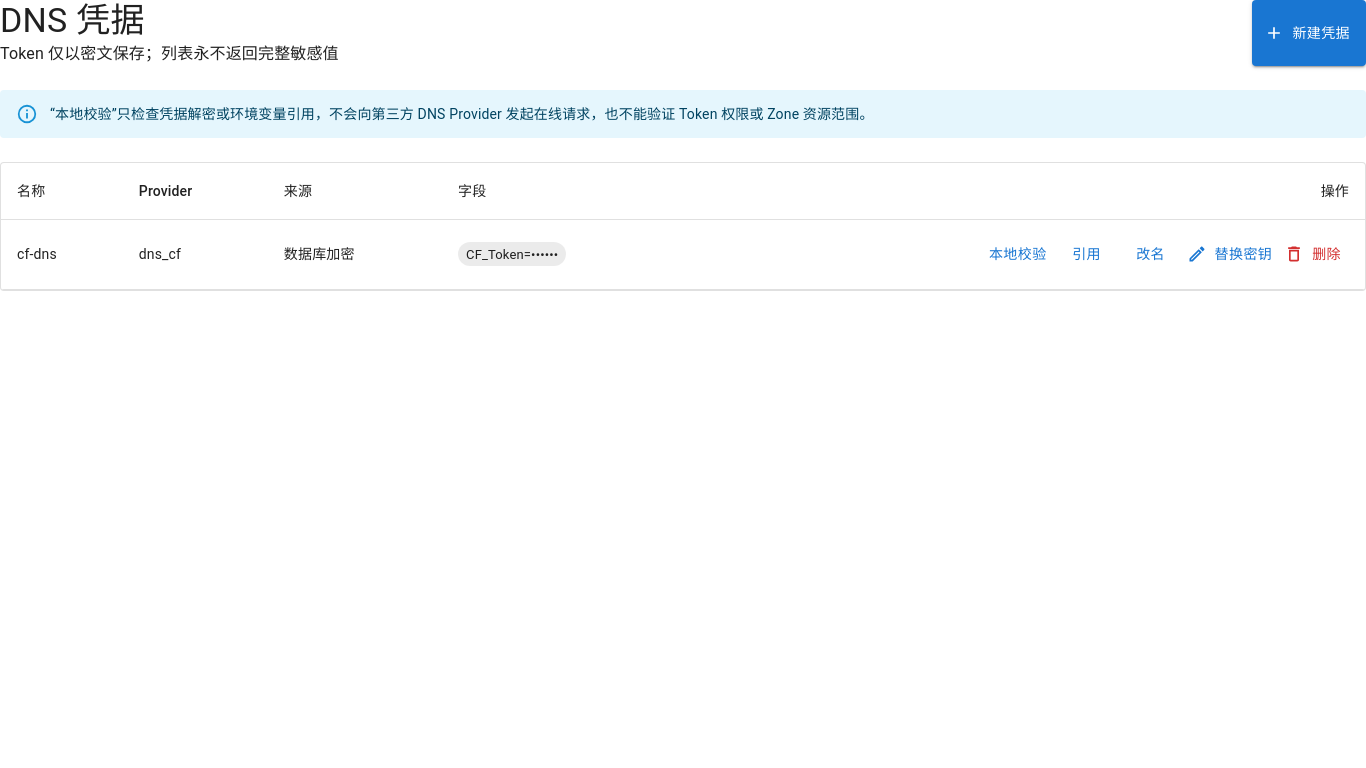
Test: Cloudflare 凭据明确本地校验边界和必要权限
Check: the button "本地校验" is shown, box [981,236,1055,272]
Check: the text "不能验证 Token 权限或 Zone 资源范围" is shown, box [50,106,874,122]
What coordinates should you click on to do the following:
click the button "新建凭据"
I would click on:
 (1309, 33)
Its box is [1252,0,1365,66].
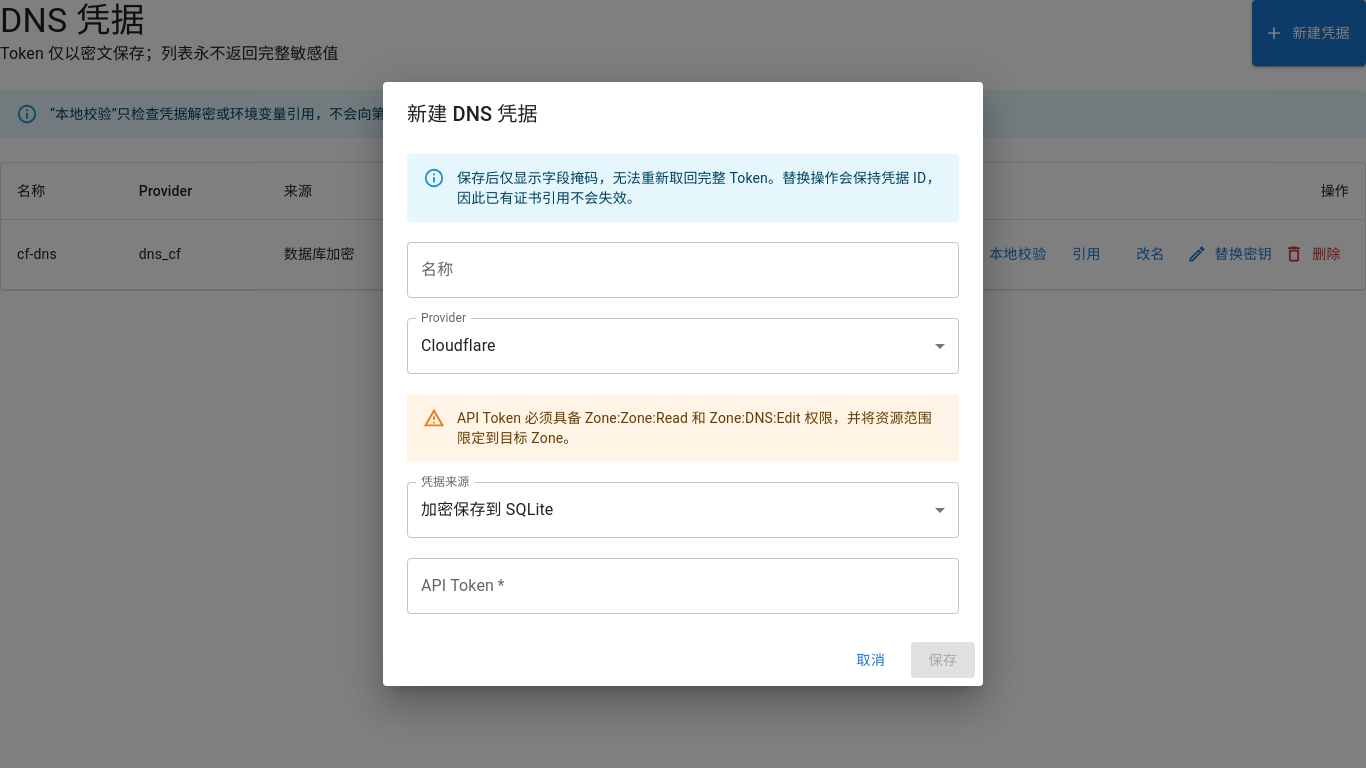
Check: the text "API Token 必须具备 Zone:Zone:Read 和 Zone:DNS:Edit 权限，并将资源范围限定到目标 Zone。" is shown, box [457,400,943,456]
